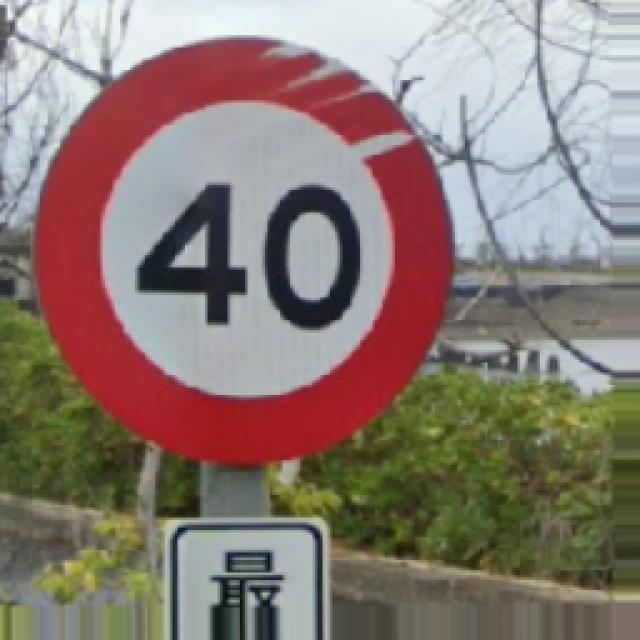Speed Limit -40-: (38, 40, 450, 462)
